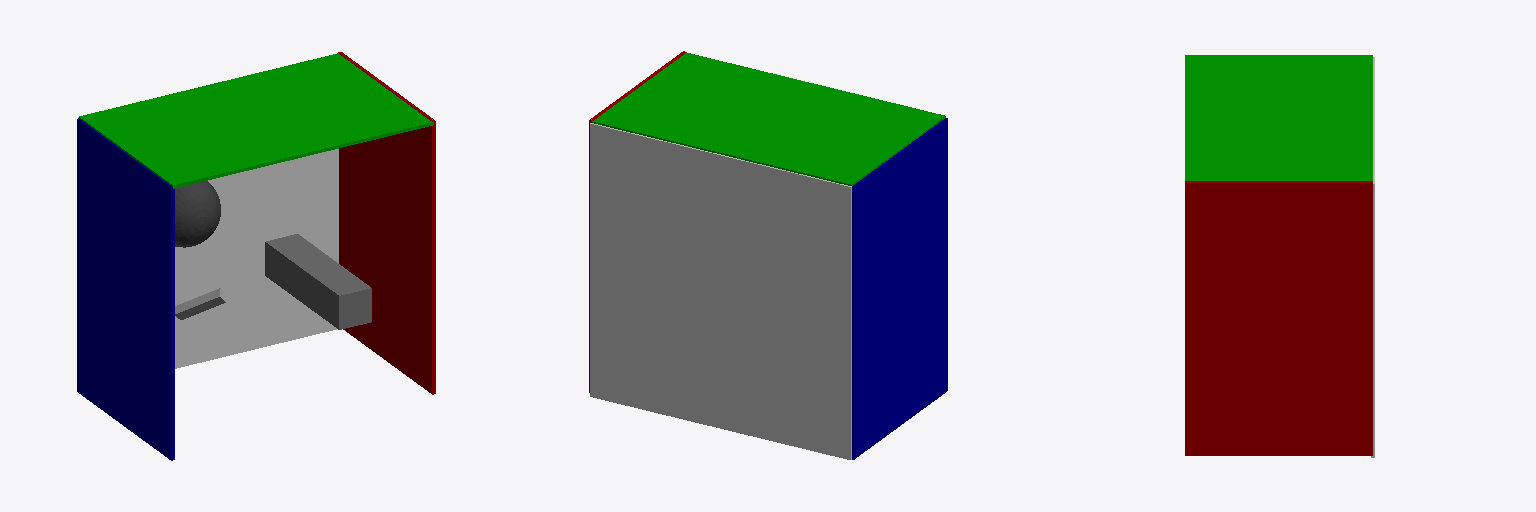
Rendered from testscene.obj.
The picture shows the model from 3 angles: view 1: azimuth 30°, elevation 25°; view 2: azimuth 150°, elevation 25°; view 3: azimuth 270°, elevation 25°; orthographic projection.
Parts seen in each view (by area): view 1: Cube.003_Cube.004, Cube.005_Cube.006, Cube_Cube.001, Cube.004_Cube.005, Cube.002_Cube.003, Sphere, Cube.001_Cube.002; view 2: Cube_Cube.001, Cube.003_Cube.004, Cube.005_Cube.006, Cube.004_Cube.005; view 3: Cube.004_Cube.005, Cube.005_Cube.006, Cube_Cube.001.
Boxes of the visible parts, box(x1,y1,x2,y2) form: Cube.003_Cube.004: box(77, 118, 174, 460); Cube.005_Cube.006: box(79, 53, 433, 188); Cube_Cube.001: box(78, 117, 338, 368); Cube.004_Cube.005: box(338, 52, 435, 394); Cube.002_Cube.003: box(265, 234, 371, 329); Sphere: box(175, 181, 220, 247); Cube.001_Cube.002: box(175, 288, 226, 319); Cube_Cube.001: box(590, 123, 851, 459); Cube.003_Cube.004: box(852, 118, 947, 459); Cube.005_Cube.006: box(592, 53, 945, 185); Cube.004_Cube.005: box(589, 51, 686, 392); Cube.004_Cube.005: box(1185, 181, 1372, 455); Cube.005_Cube.006: box(1185, 55, 1372, 180); Cube_Cube.001: box(1371, 57, 1374, 457).
Size of the model in its own units: 1.62 by 1.61 by 1.01.